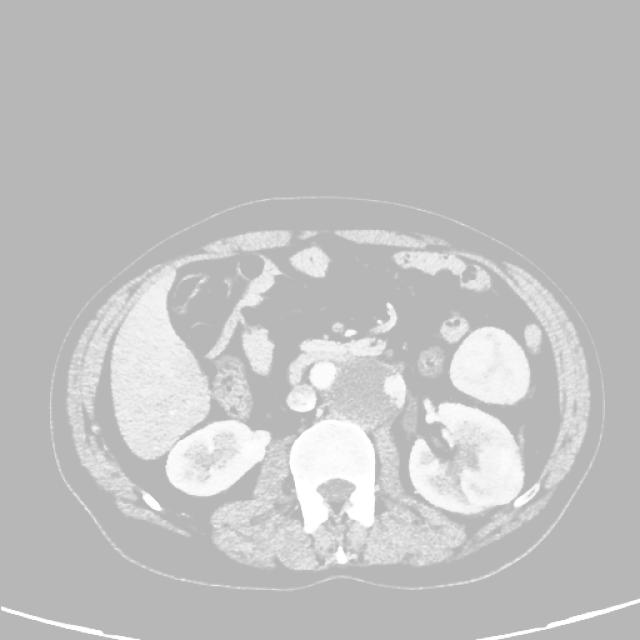TUMOR: (170, 248, 519, 442)
